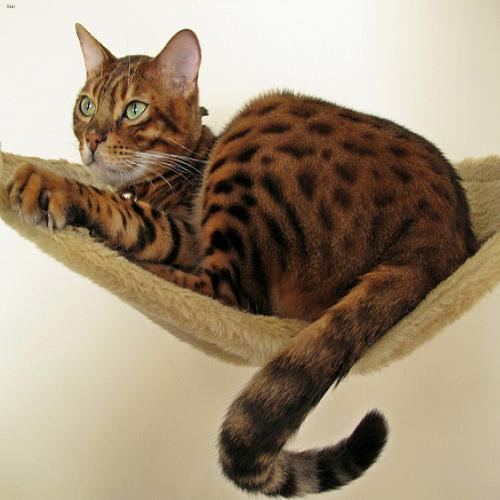cat-face: (62, 22, 208, 192)
